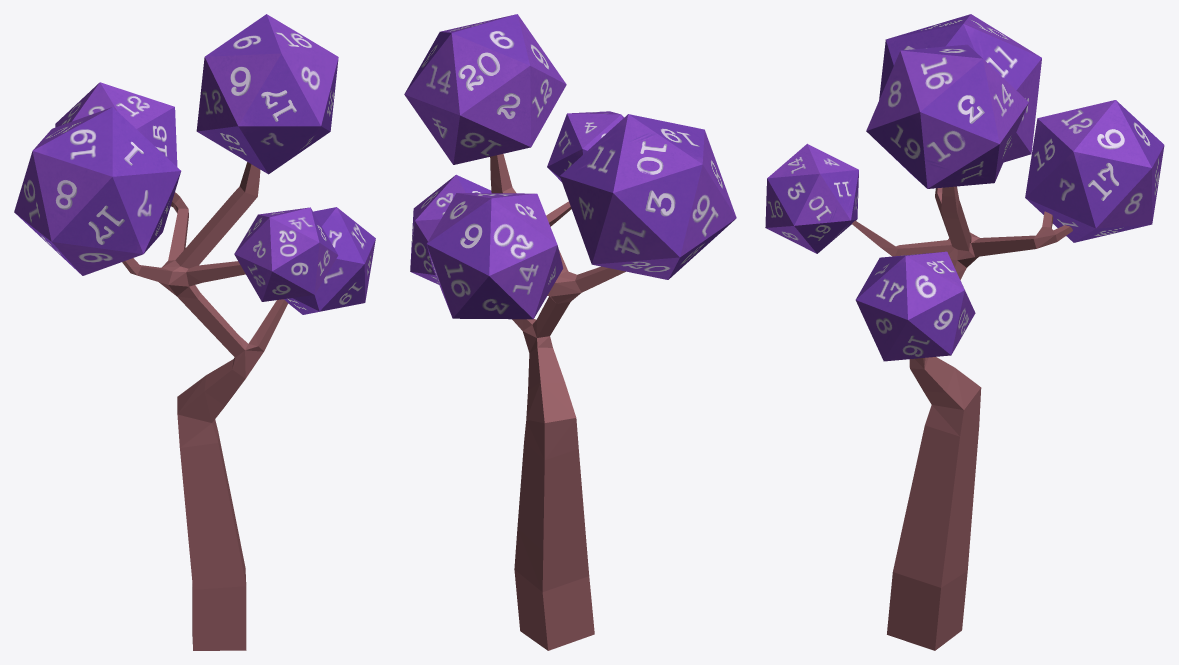
File: tree1.fbx
The picture shows the model from 3 angles, left to right: view 1: azimuth 30°, elevation 25°; view 2: azimuth 150°, elevation 25°; view 3: azimuth 270°, elevation 25°; orthographic projection. The views are drawn at different scales.
Parts seen in each view (by area): view 1: Cube, Icosphere.005, Icosphere.004, Icosphere.003, Icosphere.001, Icosphere.002; view 2: Cube, Icosphere.005, Icosphere.004, Icosphere.002, Icosphere.001, Icosphere.003; view 3: Cube, Icosphere.004, Icosphere.002, Icosphere.001, Icosphere.003, Icosphere.005.
Boxes of the visible parts, bbox=[...] form: Cube: bbox=[122, 162, 288, 650]; Icosphere.005: bbox=[14, 107, 181, 275]; Icosphere.004: bbox=[196, 14, 338, 174]; Icosphere.003: bbox=[234, 207, 338, 301]; Icosphere.001: bbox=[283, 207, 375, 314]; Icosphere.002: bbox=[55, 82, 177, 166]; Cube: bbox=[490, 154, 625, 650]; Icosphere.005: bbox=[560, 114, 736, 279]; Icosphere.004: bbox=[404, 14, 566, 164]; Icosphere.002: bbox=[426, 193, 563, 319]; Icosphere.001: bbox=[410, 174, 491, 284]; Icosphere.003: bbox=[547, 111, 623, 181]; Cube: bbox=[852, 186, 1072, 650]; Icosphere.004: bbox=[866, 44, 1028, 188]; Icosphere.002: bbox=[1025, 100, 1164, 242]; Icosphere.001: bbox=[855, 251, 975, 361]; Icosphere.003: bbox=[765, 143, 858, 253]; Icosphere.005: bbox=[879, 14, 1041, 162].
Size of the model in its own units: 436 by 769 by 453.
6 materials, 5 textured.
